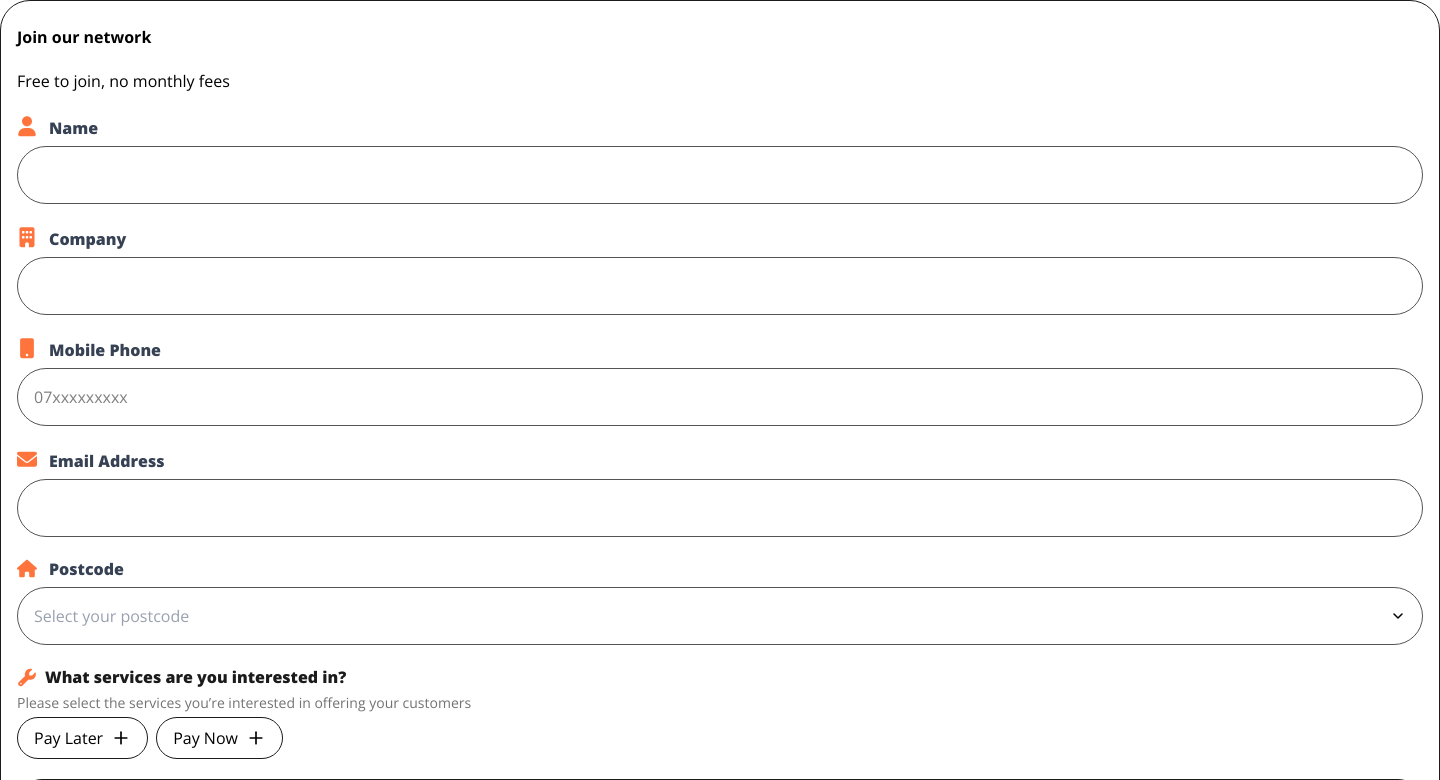
RegisterForm validation tests › validates that at least one payment option is selected
In the field labelled "Name": [720, 175] box 17,146 -> 1423,204, type "John Doe"
In the field labelled "Company": [720, 286] box 17,257 -> 1423,315, type "ABC Company"
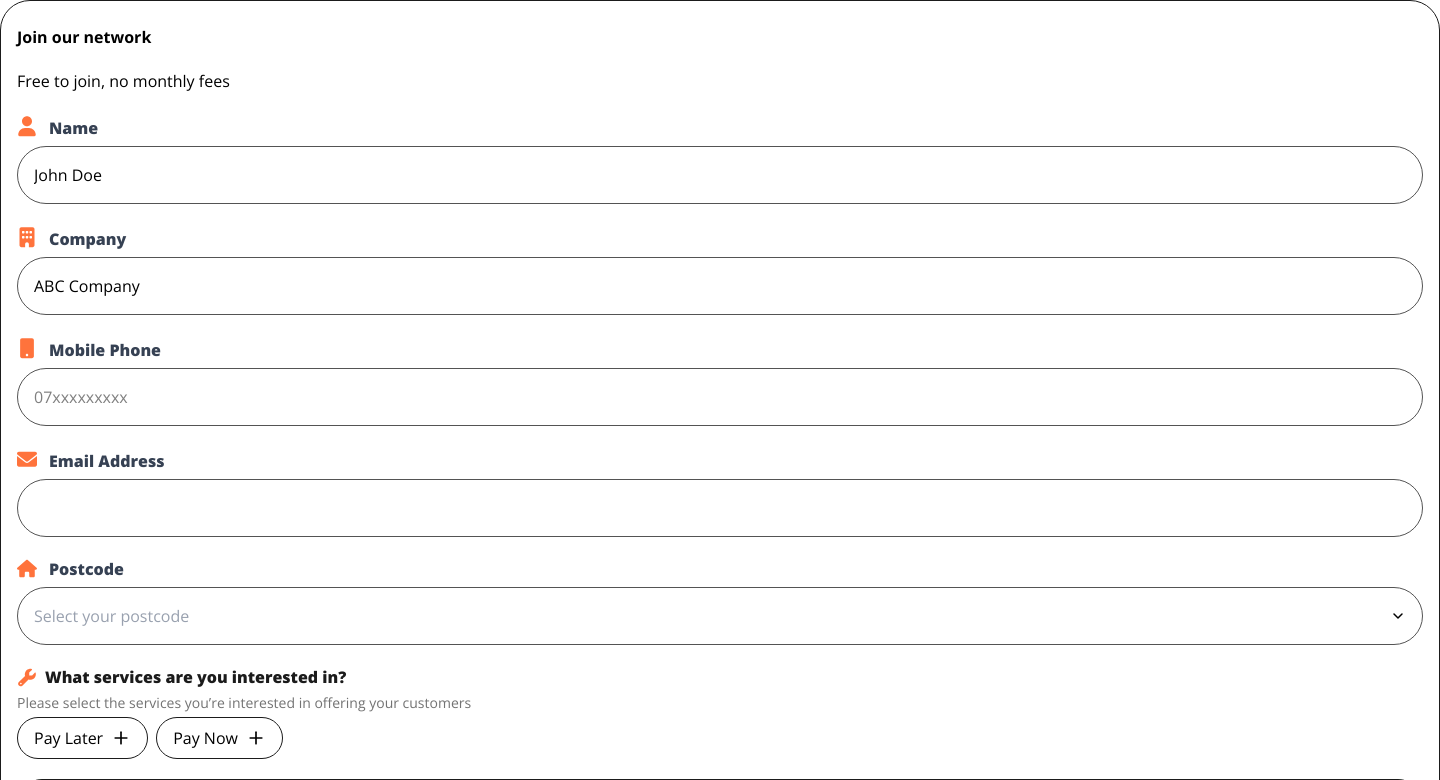
In the field labelled "Mobile Phone": [720, 397] box 17,368 -> 1423,426, type "0712345678"
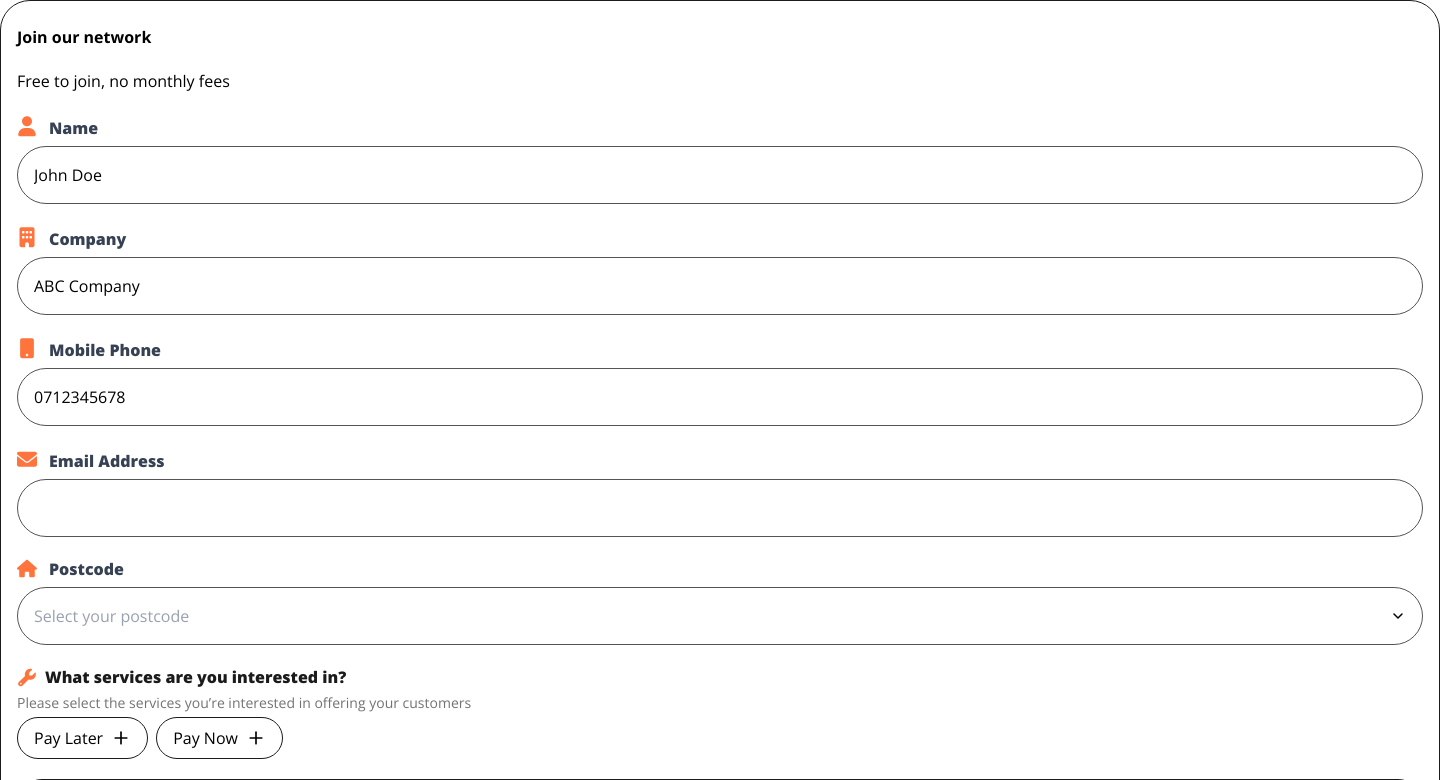
In the field labelled "Email Address": [720, 508] box 17,479 -> 1423,537, type "M8tD1@example.com"
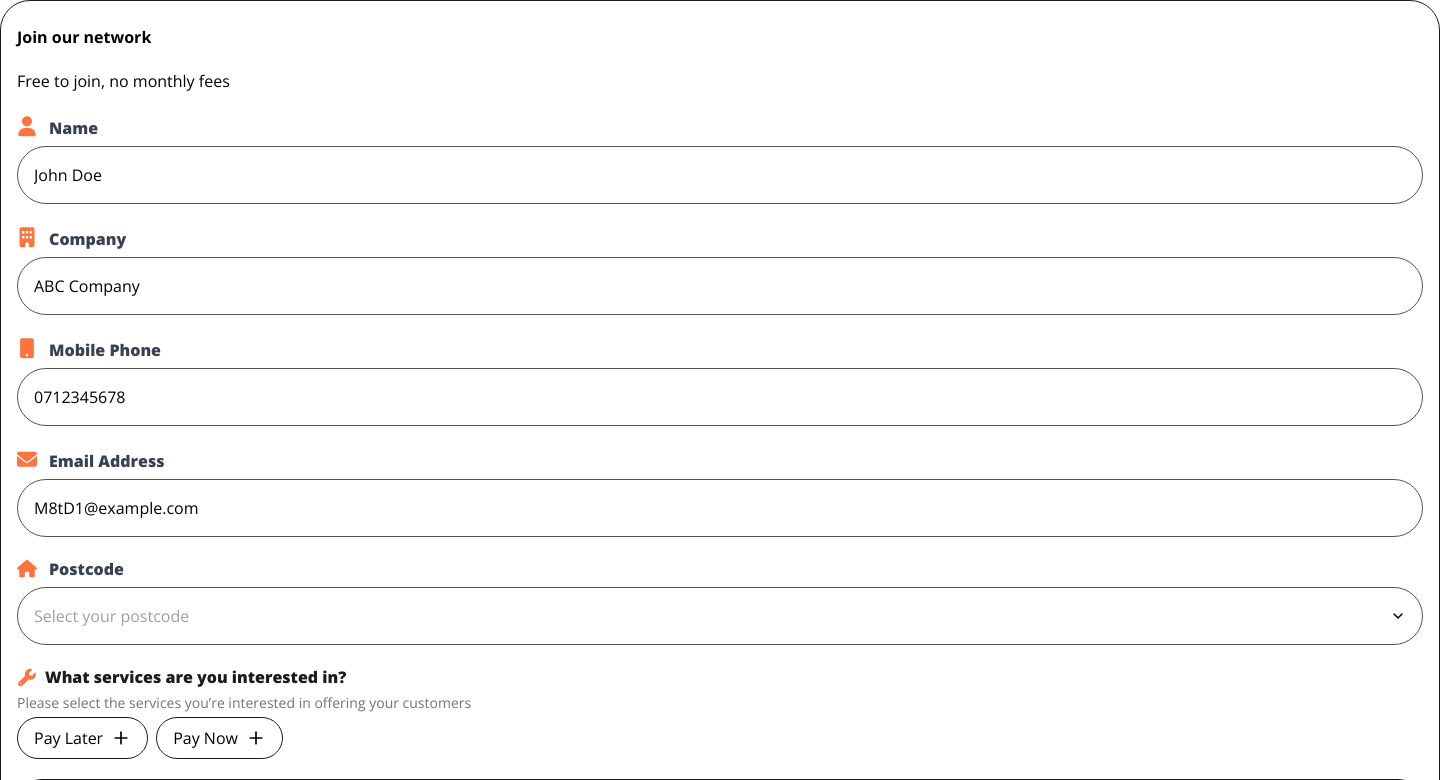
Click the dropdown labelled "Select your postcode": [720, 616] box 17,587 -> 1423,645
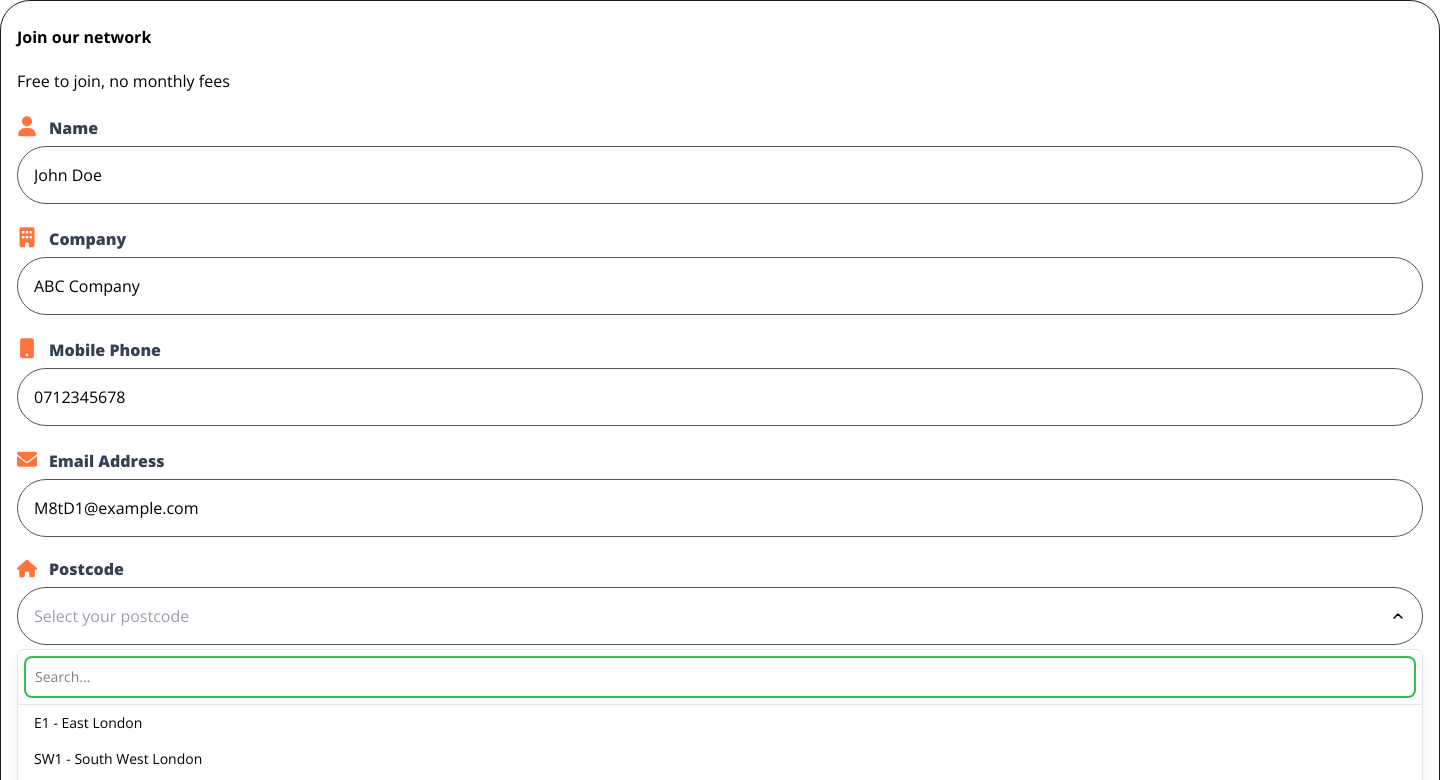
Select an option from the dropdown
Click the text "E1 - East London": [88, 723] box 34,713 -> 142,732
(page scrolled)
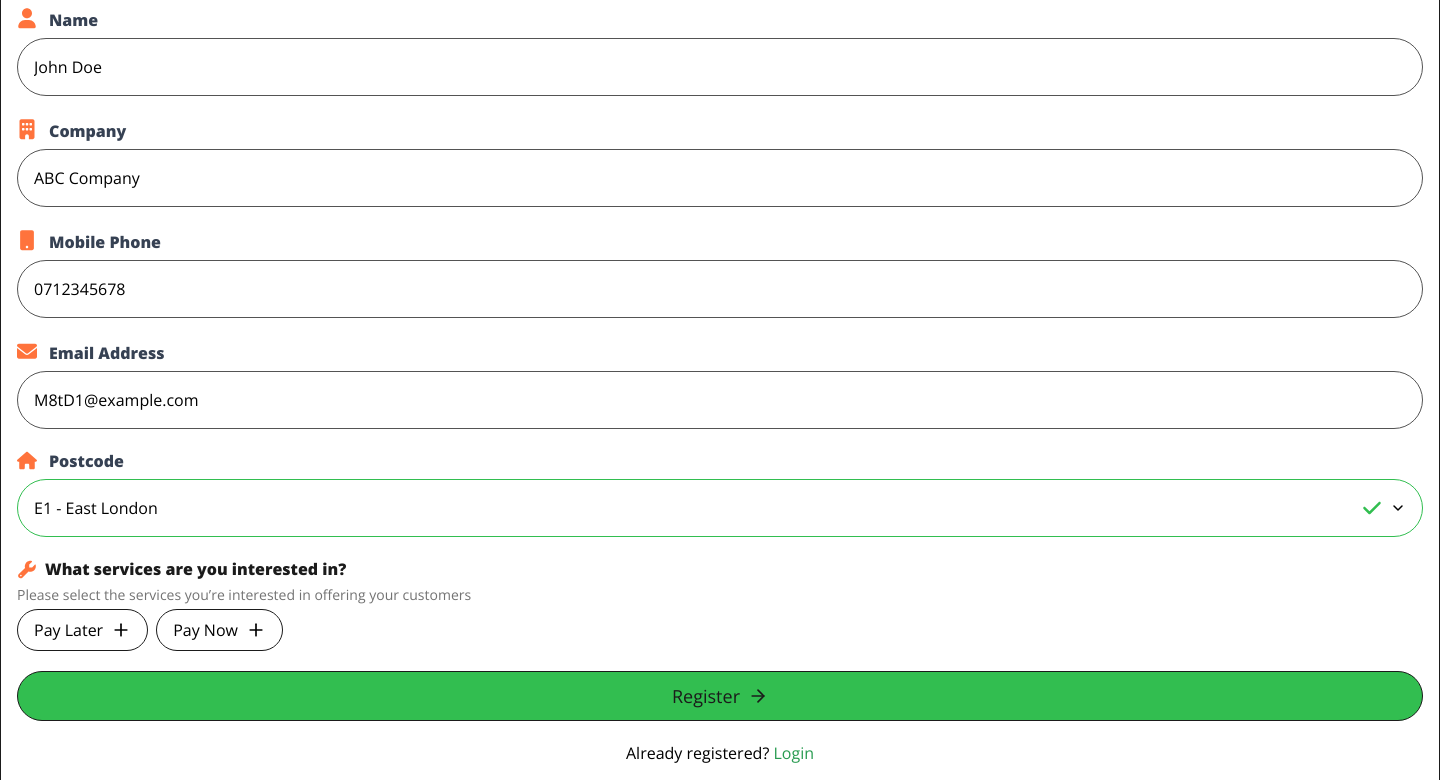
Submit without selecting either payment option
Click the button "Register": [720, 696] box 17,671 -> 1423,721
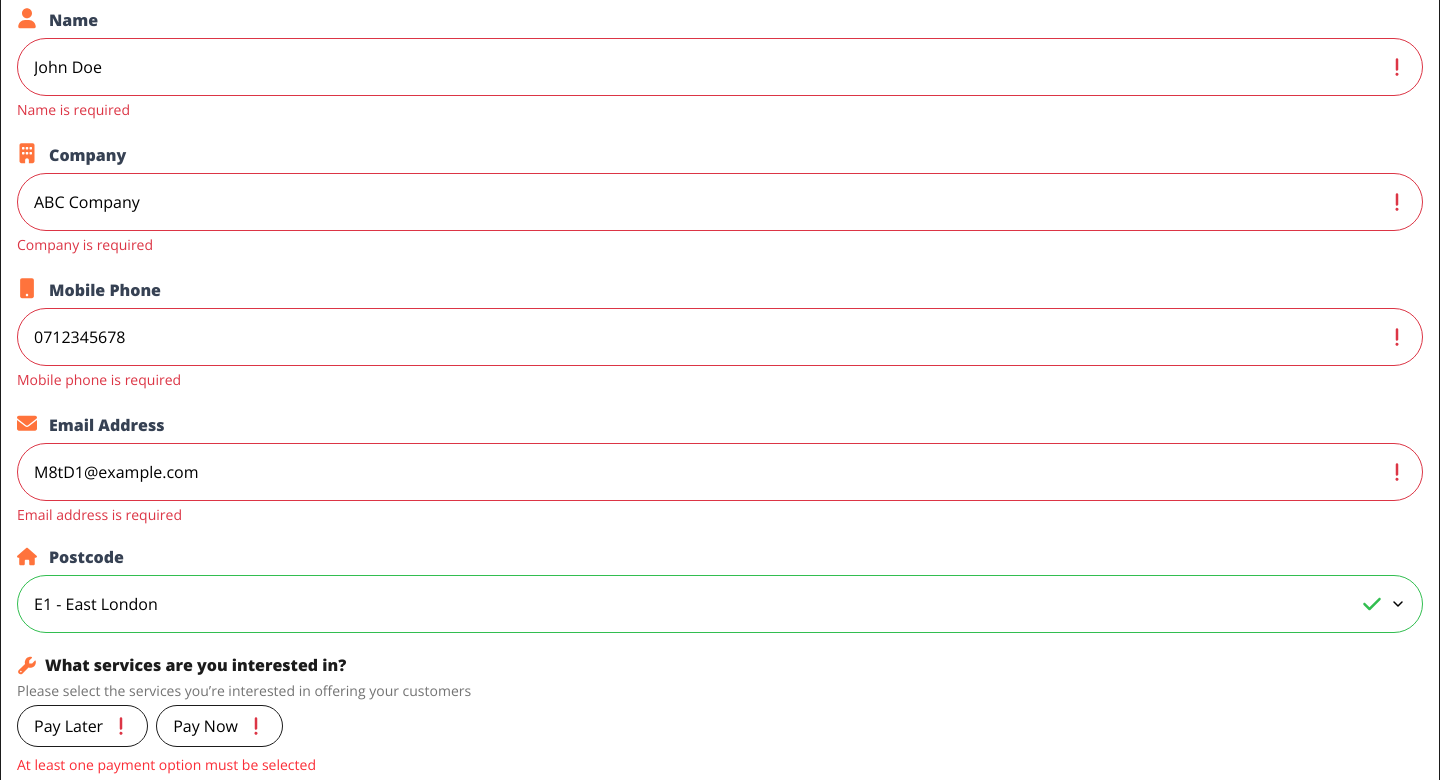
Check: the text "At least one payment option must be selected" is shown, box 17,755 -> 316,774
